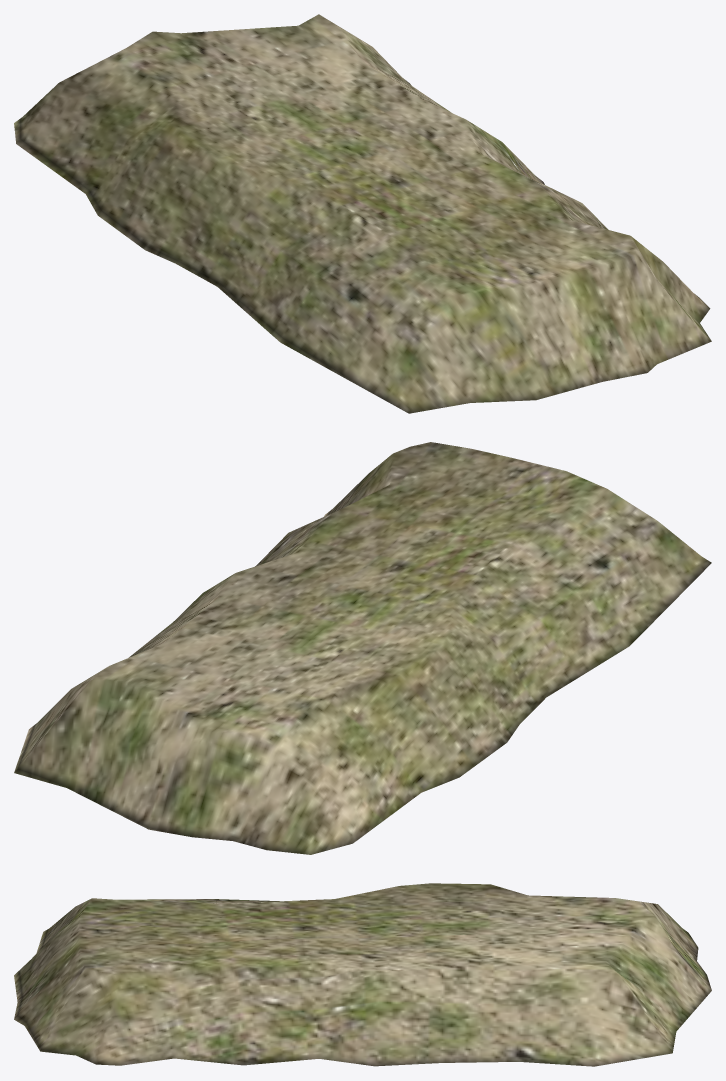
The model's file is cf_col_hill.obj.
The picture shows the model from 3 angles, top to bottom: view 1: azimuth 30°, elevation 25°; view 2: azimuth 150°, elevation 25°; view 3: azimuth 270°, elevation 25°; orthographic projection. The views are drawn at different scales.
Parts seen in each view (by area): view 1: hill_collision_Plane.004; view 2: hill_collision_Plane.004; view 3: hill_collision_Plane.004.
Boxes of the visible parts, left/top/right/bottom form: hill_collision_Plane.004: left=14, top=14, right=711, bottom=413; hill_collision_Plane.004: left=14, top=442, right=711, bottom=854; hill_collision_Plane.004: left=14, top=883, right=711, bottom=1066.
Bounding box in the file's own units: 9.89 × 1.98 × 19.88.
